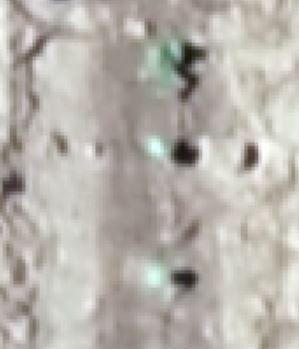cotton: (149, 47, 180, 84), (147, 264, 170, 287), (150, 136, 172, 155)
